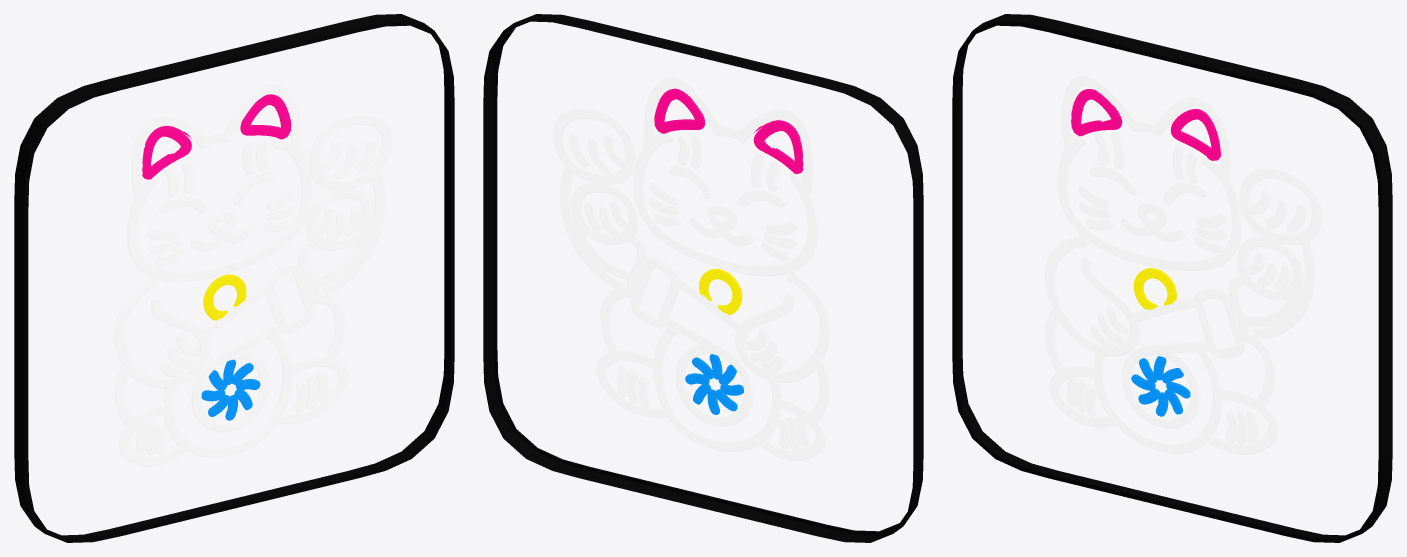
The model's file is cat_neon.gltf.
The picture shows the model from 3 angles, left to right: view 1: azimuth 30°, elevation 25°; view 2: azimuth 150°, elevation 25°; view 3: azimuth 330°, elevation 25°; orthographic projection.
Parts seen in each view (by area): view 1: path1, Plane.014; view 2: path1, Plane.014; view 3: path1, Plane.014.
Boxes of the visible parts, box(x1,y1,x2,y2) form: path1: box(114, 81, 392, 466); Plane.014: box(14, 14, 454, 542); path1: box(552, 76, 831, 461); Plane.014: box(483, 14, 923, 542); path1: box(1044, 74, 1323, 455); Plane.014: box(952, 14, 1392, 542).
Bounding box in the file's own units: 2.97 × 2.97 × 0.1222.
